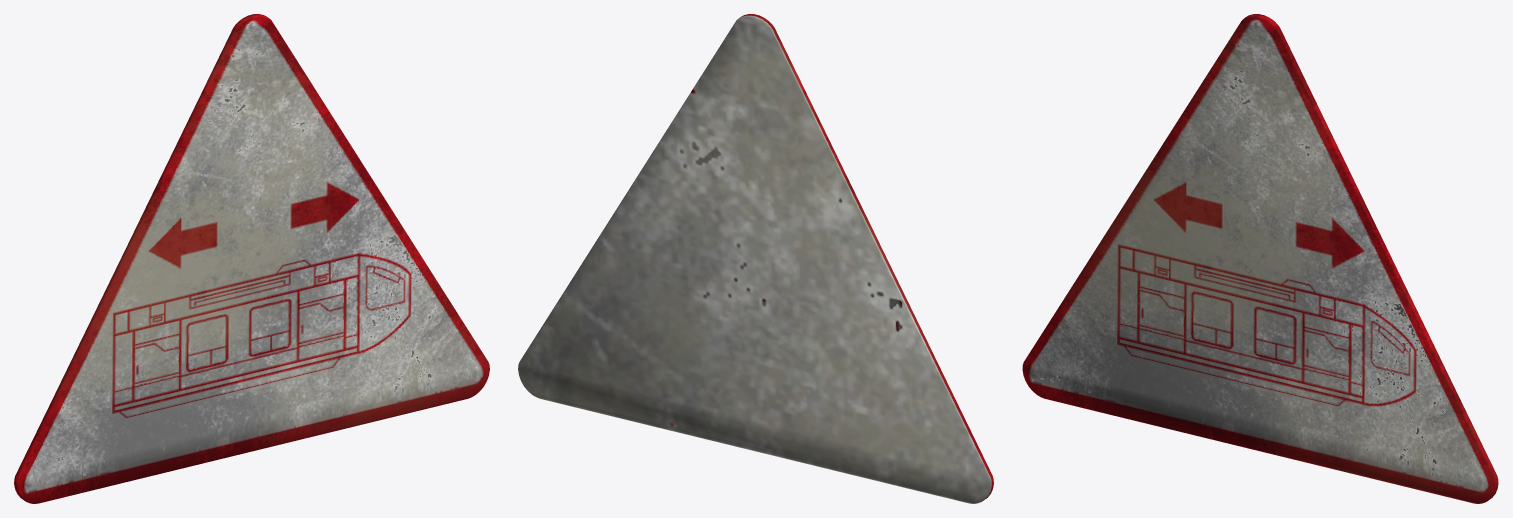
The model's file is sign_trainwarnings_triangle.dae.
3 renders of one model, left to right at view 1: azimuth 30°, elevation 25°; view 2: azimuth 150°, elevation 25°; view 3: azimuth 330°, elevation 25°, orthographic.
Parts seen in each view (by area): view 1: sign_triangle_explosion; view 2: sign_triangle_explosion; view 3: sign_triangle_explosion.
Part boxes in pixels (left/top/right/bottom): sign_triangle_explosion: left=14, top=14, right=489, bottom=503; sign_triangle_explosion: left=518, top=14, right=993, bottom=503; sign_triangle_explosion: left=1022, top=14, right=1498, bottom=503.
Bounding box in the file's own units: 0.3413 × 0.2994 × 0.00432.
